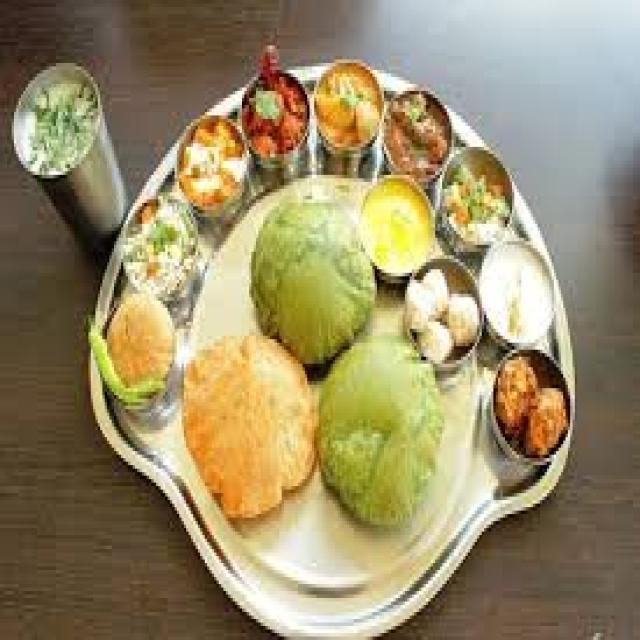curd: (476, 240, 560, 349)
raita: (474, 239, 561, 350)
roti: (179, 330, 318, 512)
sweet: (489, 362, 574, 468), (107, 298, 182, 402), (174, 119, 248, 203)
